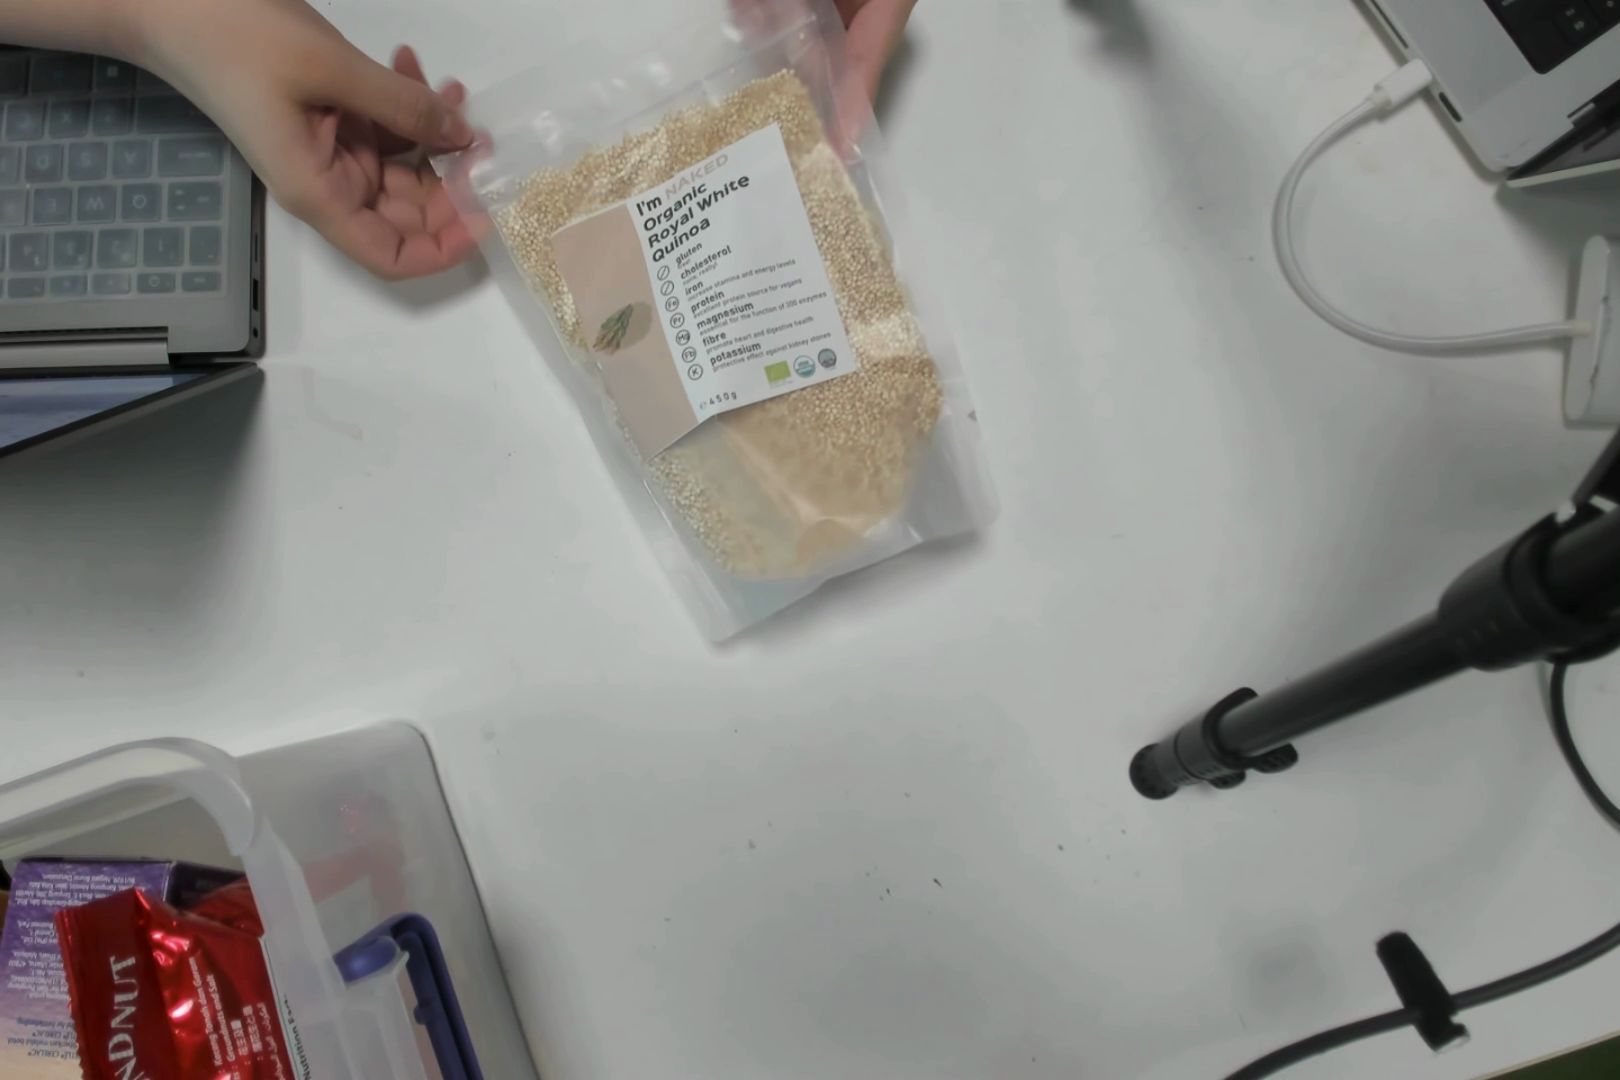Rice(brown-others)_400-499g_Halal_NonHealthy: (581, 135, 952, 573)
